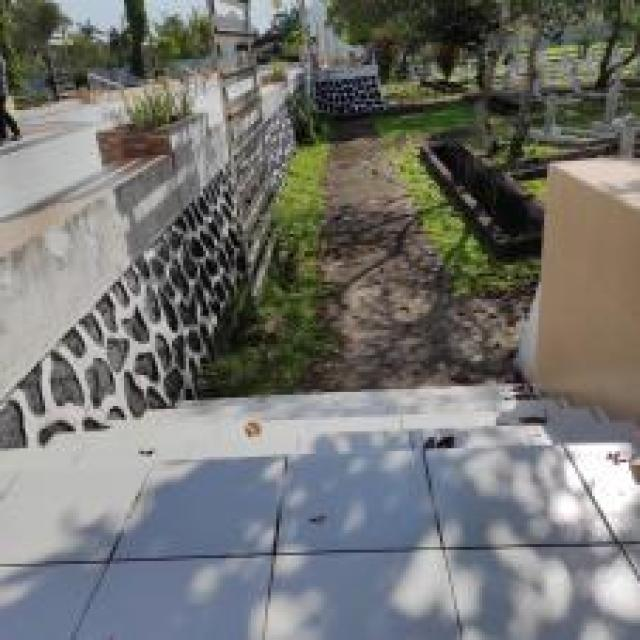downstair: (117, 368, 638, 492)
